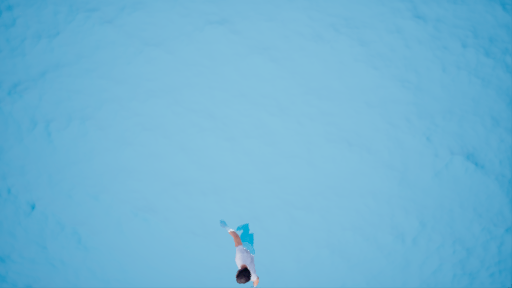person: (215, 212, 269, 285)
